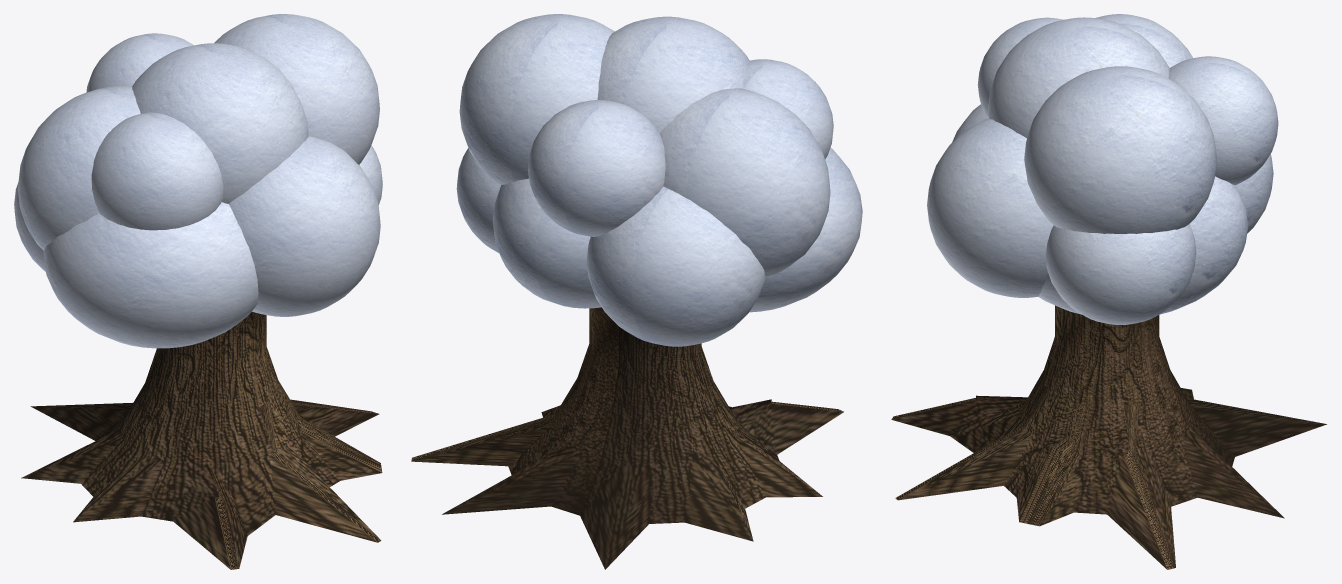
The model's file is WinterTree.FBX.
3 renders of one model, left to right at view 1: azimuth 30°, elevation 25°; view 2: azimuth 150°, elevation 25°; view 3: azimuth 270°, elevation 25°, orthographic. The views are drawn at different scales.
Parts seen in each view (by area): view 1: Cone001wfwe, Sphere003, Sphere008, Sphere007, Sphere012, Sphere010, Sphere006, Sphere009, Sphere005, Sphere011; view 2: Cone001wfwe, Sphere006, Sphere005, Sphere010, Sphere009, Sphere007, Sphere004, Sphere003, Sphere012, Sphere011; view 3: Cone001wfwe, Sphere010, Sphere008, Sphere011, Sphere007, Sphere009, Sphere004, Sphere012, Sphere006, Sphere005.
Boxes of the visible parts, left/top/right/bottom form: Cone001wfwe: left=21, top=311, right=382, bottom=569; Sphere003: left=43, top=202, right=258, bottom=348; Sphere008: left=229, top=136, right=380, bottom=316; Sphere007: left=132, top=43, right=308, bottom=203; Sphere012: left=91, top=112, right=223, bottom=230; Sphere010: left=214, top=14, right=379, bottom=164; Sphere006: left=18, top=86, right=140, bottom=250; Sphere009: left=86, top=33, right=193, bottom=92; Sphere005: left=14, top=182, right=45, bottom=271; Sphere011: left=359, top=145, right=382, bottom=204; Cone001wfwe: left=411, top=307, right=843, bottom=569; Sphere006: left=660, top=88, right=830, bottom=276; Sphere005: left=586, top=186, right=765, bottom=346; Sphere010: left=459, top=14, right=614, bottom=184; Sphere009: left=528, top=100, right=665, bottom=236; Sphere007: left=597, top=16, right=749, bottom=133; Sphere004: left=493, top=178, right=601, bottom=308; Sphere003: left=749, top=147, right=862, bottom=312; Sphere012: left=742, top=59, right=833, bottom=159; Sphere011: left=456, top=148, right=500, bottom=252; Cone001wfwe: left=891, top=305, right=1326, bottom=569; Sphere010: left=1024, top=66, right=1216, bottom=233; Sphere008: left=927, top=118, right=1053, bottom=297; Sphere011: left=1045, top=224, right=1196, bottom=324; Sphere007: left=987, top=17, right=1169, bottom=137; Sphere009: left=1168, top=56, right=1278, bottom=185; Sphere004: left=1038, top=176, right=1248, bottom=314; Sphere012: left=977, top=17, right=1063, bottom=115; Sphere006: left=1095, top=14, right=1192, bottom=67; Sphere005: left=1235, top=154, right=1273, bottom=233.
Size of the model in its own units: 467 by 526 by 470.
2 materials, 2 textured.
